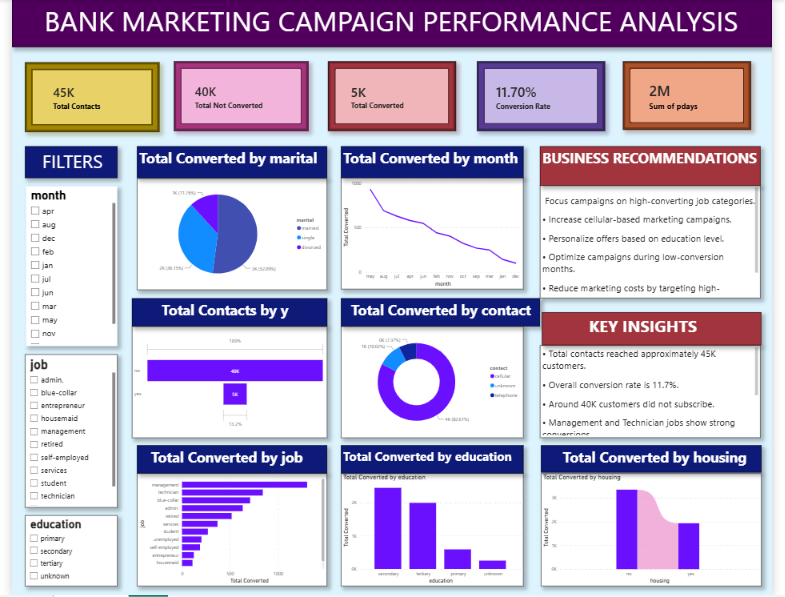

What the dashboard file says about the page in this screenshot:
{"tool":"powerbi","page":{"name":"Page 1","canvas":[1999,1570],"ordinal":0},"visuals":[{"type":"cardVisual","fields":{"Data":["bank-full.Total Contacts"]},"box":[33.3,166.7,353.3,183.3],"z":0},{"type":"cardVisual","fields":{"Data":["bank-full.Total Converted"]},"box":[830,163.3,336.7,183.3],"z":1000},{"type":"cardVisual","fields":{"Data":["bank-full.Total Not Converted"]},"box":[426.7,163.3,353.3,183.3],"z":2000},{"type":"cardVisual","fields":{"Data":["bank-full.Conversion Rate"]},"box":[1223.3,163.3,336.7,183.3],"z":3000},{"type":"funnel","fields":{"Category":["bank-full.y"],"Y":["bank-full.Total Contacts"]},"box":[316.7,860,513.3,293.3],"z":4000},{"type":"clusteredBarChart","fields":{"Category":["bank-full.job"],"Y":["bank-full.Total Converted"]},"box":[330,1246.7,500,296.7],"z":5000},{"type":"clusteredColumnChart","fields":{"Category":["bank-full.education"],"Y":["bank-full.Total Converted"]},"box":[866.7,1246.7,480,296.7],"z":6000},{"type":"lineChart","fields":{"Category":["bank-full.month"],"Y":["bank-full.Total Converted"]},"box":[865.7,468.6,480,294.3],"z":7000},{"type":"donutChart","fields":{"Category":["bank-full.contact"],"Y":["bank-full.Total Converted"]},"box":[866.7,860,480,293.3],"z":8000},{"type":"pieChart","fields":{"Category":["bank-full.marital"],"Y":["bank-full.Total Converted"]},"box":[330,470,500,293.3],"z":9000},{"type":"slicer","fields":{"Values":["bank-full.month"]},"box":[37.1,491.4,240,420],"z":10000},{"type":"slicer","fields":{"Values":["bank-full.job"]},"box":[33.3,933.3,243.3,403.3],"z":11000},{"type":"slicer","fields":{"Values":["bank-full.education"]},"box":[33.3,1356.7,243.3,186.7],"z":12000},{"type":"textbox","box":[1390,910,580,243.3],"z":13000},{"type":"textbox","box":[1390,490,580,296.7],"z":14000},{"type":"textbox","box":[34.3,385.7,242.9,82.9],"z":15000},{"type":"ribbonChart","fields":{"Category":["bank-full.housing"],"Y":["bank-full.Total Converted"]},"box":[1391.4,1245.7,580,297.1],"z":16000},{"type":"textbox","box":[0,0,2000,125.7],"z":17000},{"type":"textbox","box":[1390,386.7,580,103.3],"z":18000},{"type":"textbox","box":[330,386.7,500,83.3],"z":19000},{"type":"textbox","box":[866.7,386.7,480,83.3],"z":20000},{"type":"textbox","box":[316.7,786.7,513.3,73.3],"z":21000},{"type":"textbox","box":[866.7,786.7,523.3,73.3],"z":22000},{"type":"textbox","box":[866.7,1173.3,480,73.3],"z":23000},{"type":"textbox","box":[330,1173.3,500,73.3],"z":24000},{"type":"textbox","box":[1391.4,1174.3,580,71.4],"z":25000},{"type":"cardVisual","fields":{"Data":["Sum(bank-full.pdays)"]},"box":[1606.7,163.3,336.7,180],"z":26000},{"type":"textbox","box":[1393.3,823.3,576.7,86.7],"z":27000}]}

Visuals, with their boxes in screenshot pixels (x1, y1, x2, y2):
cardVisual - bank-full.Total Contacts: left=29, top=65, right=161, bottom=133
cardVisual - bank-full.Total Converted: left=328, top=63, right=454, bottom=132
cardVisual - bank-full.Total Not Converted: left=176, top=63, right=309, bottom=132
cardVisual - bank-full.Conversion Rate: left=475, top=63, right=601, bottom=132
funnel - bank-full.y x bank-full.Total Contacts: left=135, top=324, right=328, bottom=434
clusteredBarChart - bank-full.job x bank-full.Total Converted: left=140, top=469, right=328, bottom=581
clusteredColumnChart - bank-full.education x bank-full.Total Converted: left=341, top=469, right=521, bottom=581
lineChart - bank-full.month x bank-full.Total Converted: left=341, top=178, right=521, bottom=288
donutChart - bank-full.contact x bank-full.Total Converted: left=341, top=324, right=521, bottom=434
pieChart - bank-full.marital x bank-full.Total Converted: left=140, top=178, right=328, bottom=288
slicer - bank-full.month: left=30, top=186, right=120, bottom=344
slicer - bank-full.job: left=29, top=352, right=120, bottom=503
slicer - bank-full.education: left=29, top=511, right=120, bottom=581
textbox: left=538, top=343, right=755, bottom=434
textbox: left=538, top=186, right=755, bottom=297
textbox: left=29, top=147, right=120, bottom=178
ribbonChart - bank-full.housing x bank-full.Total Converted: left=538, top=469, right=756, bottom=581
textbox: left=16, top=2, right=766, bottom=49
textbox: left=538, top=147, right=755, bottom=186
textbox: left=140, top=147, right=328, bottom=178
textbox: left=341, top=147, right=521, bottom=178
textbox: left=135, top=297, right=328, bottom=324
textbox: left=341, top=297, right=538, bottom=324
textbox: left=341, top=442, right=521, bottom=469
textbox: left=140, top=442, right=328, bottom=469
textbox: left=538, top=442, right=756, bottom=469
cardVisual - Sum(bank-full.pdays): left=619, top=63, right=745, bottom=131
textbox: left=539, top=311, right=755, bottom=343
